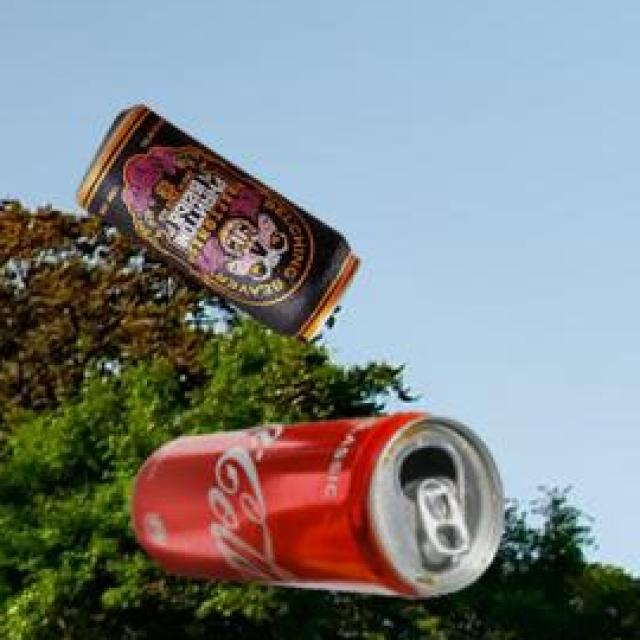logam: (127, 409, 501, 594), (72, 103, 357, 338)
